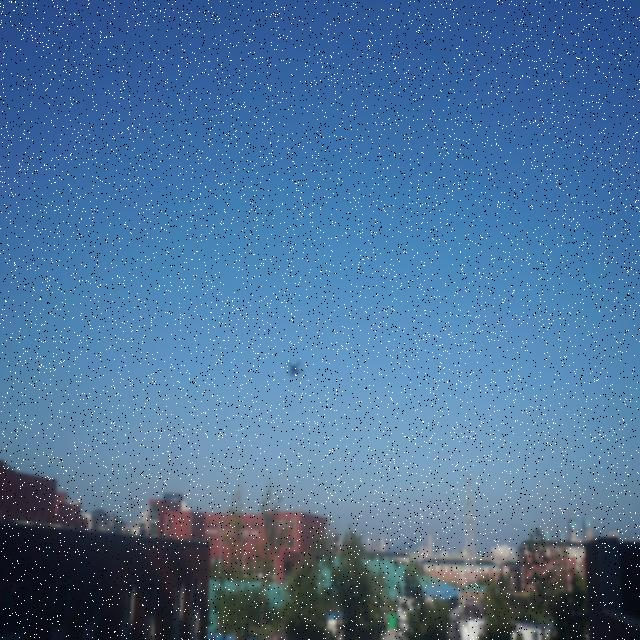UAV: (284, 360, 304, 378)
